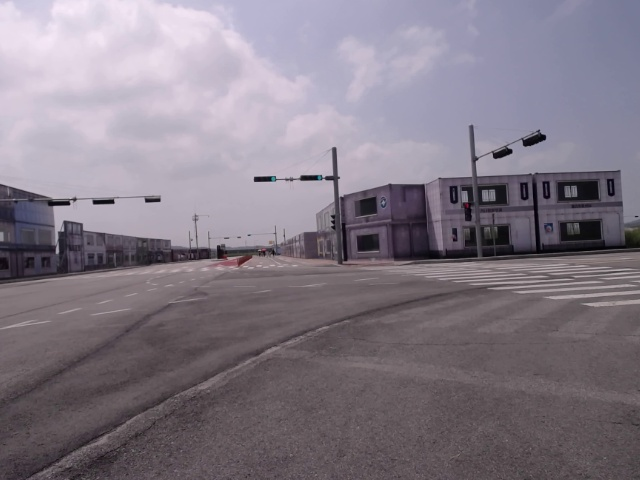straight_green_4: (254, 175, 276, 182), (301, 175, 322, 181)
